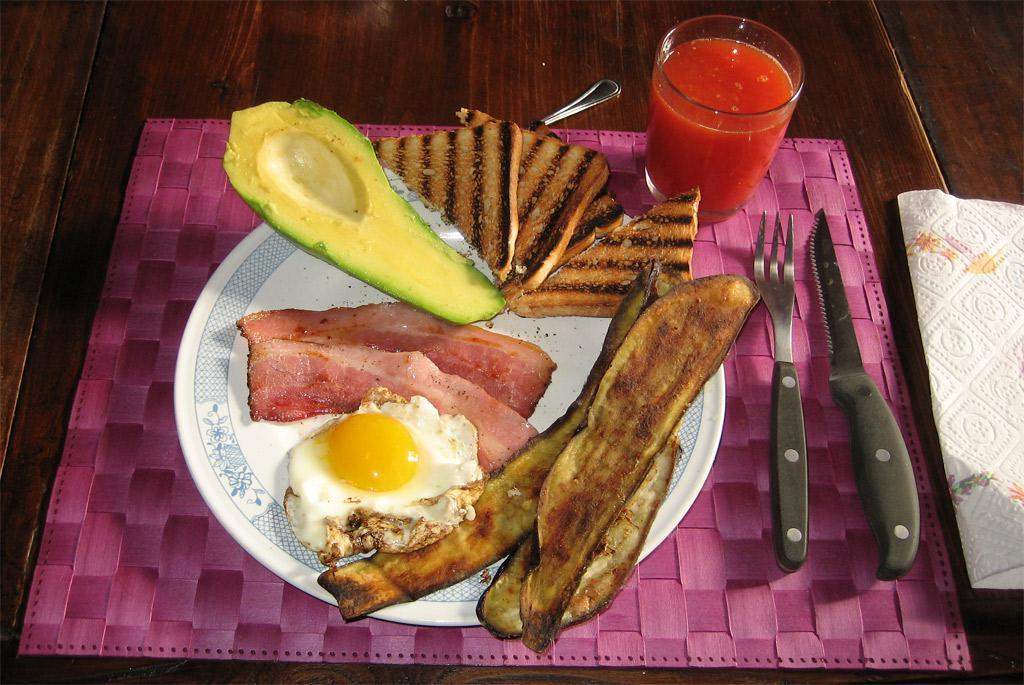Knife: (808, 208, 923, 585)
